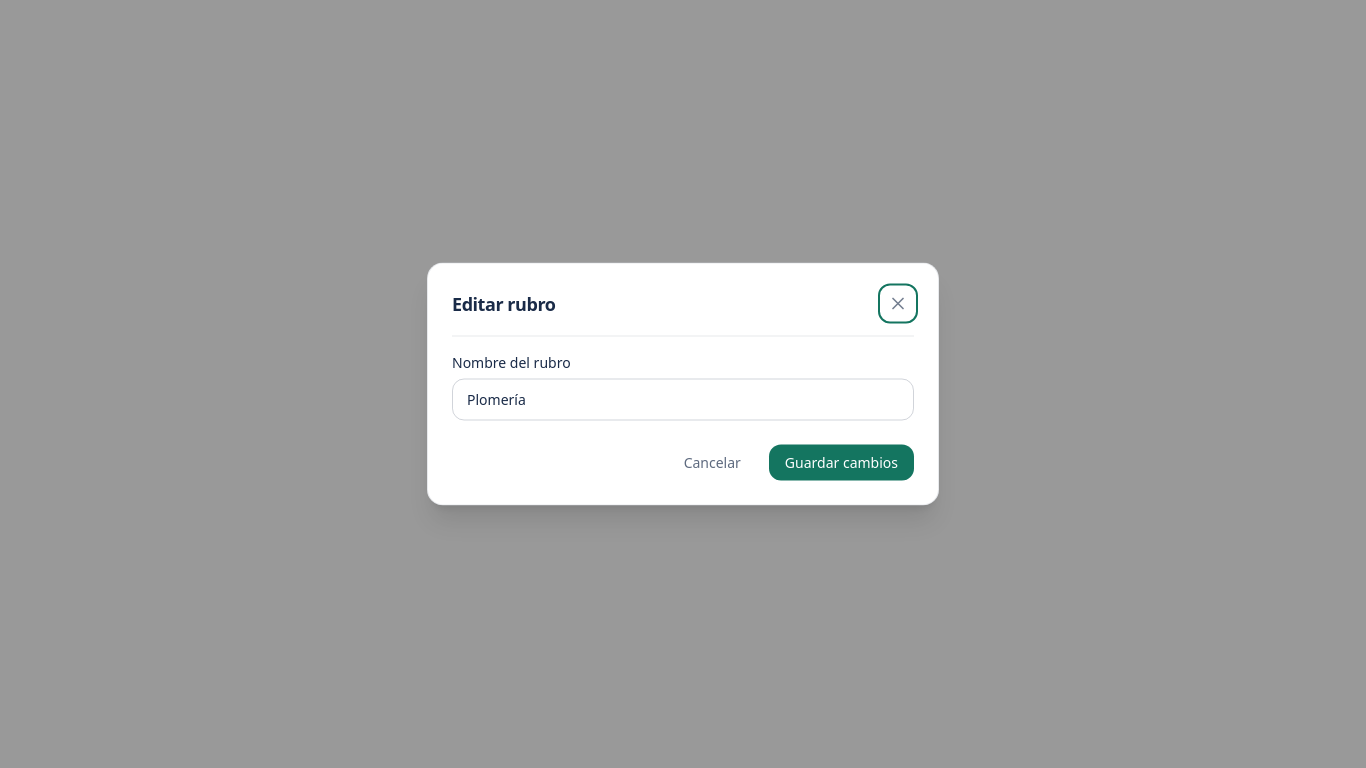
EditCategoryModal › validates that name is required and shows error without submitting
Clear the field labelled "Nombre del rubro" at (683, 400), box [452,378,914,420]
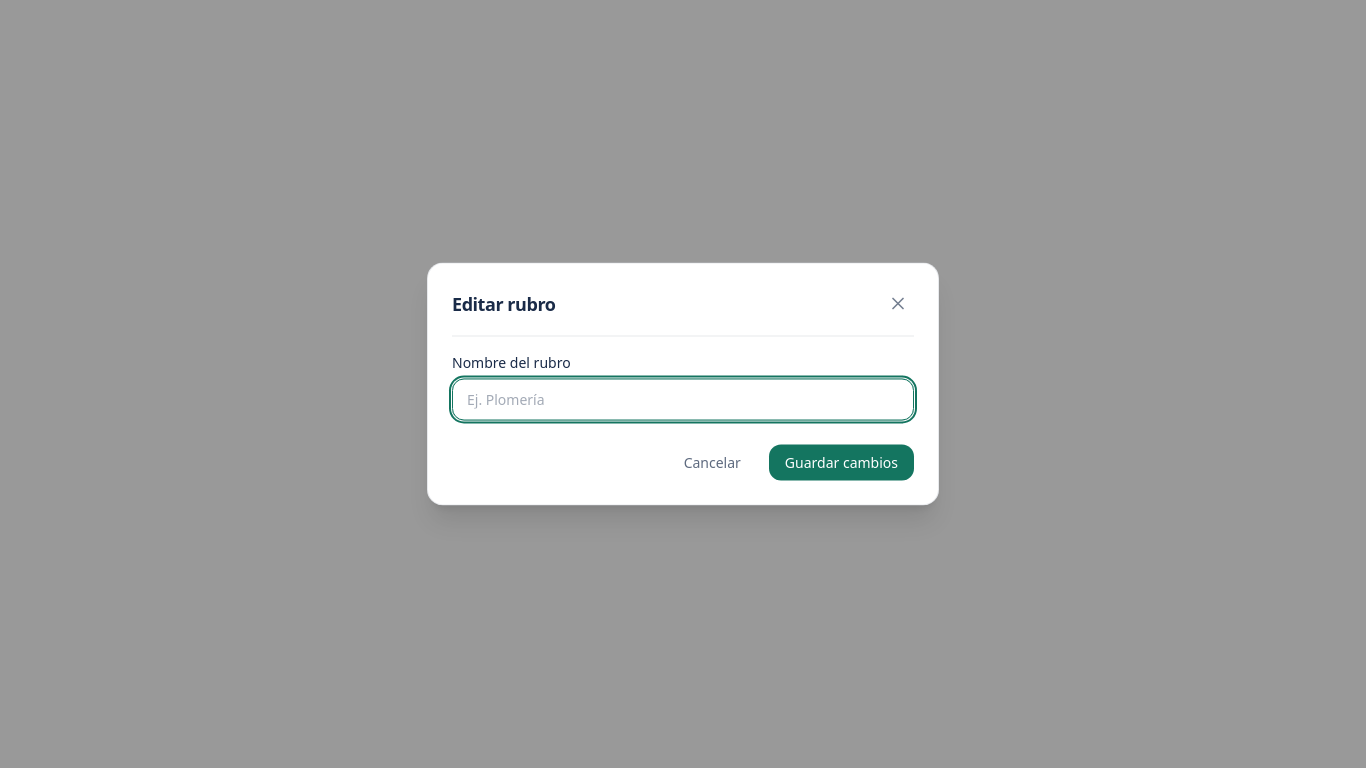
Click the button "Guardar cambios".
click(841, 462)  # box [769,444,914,480]
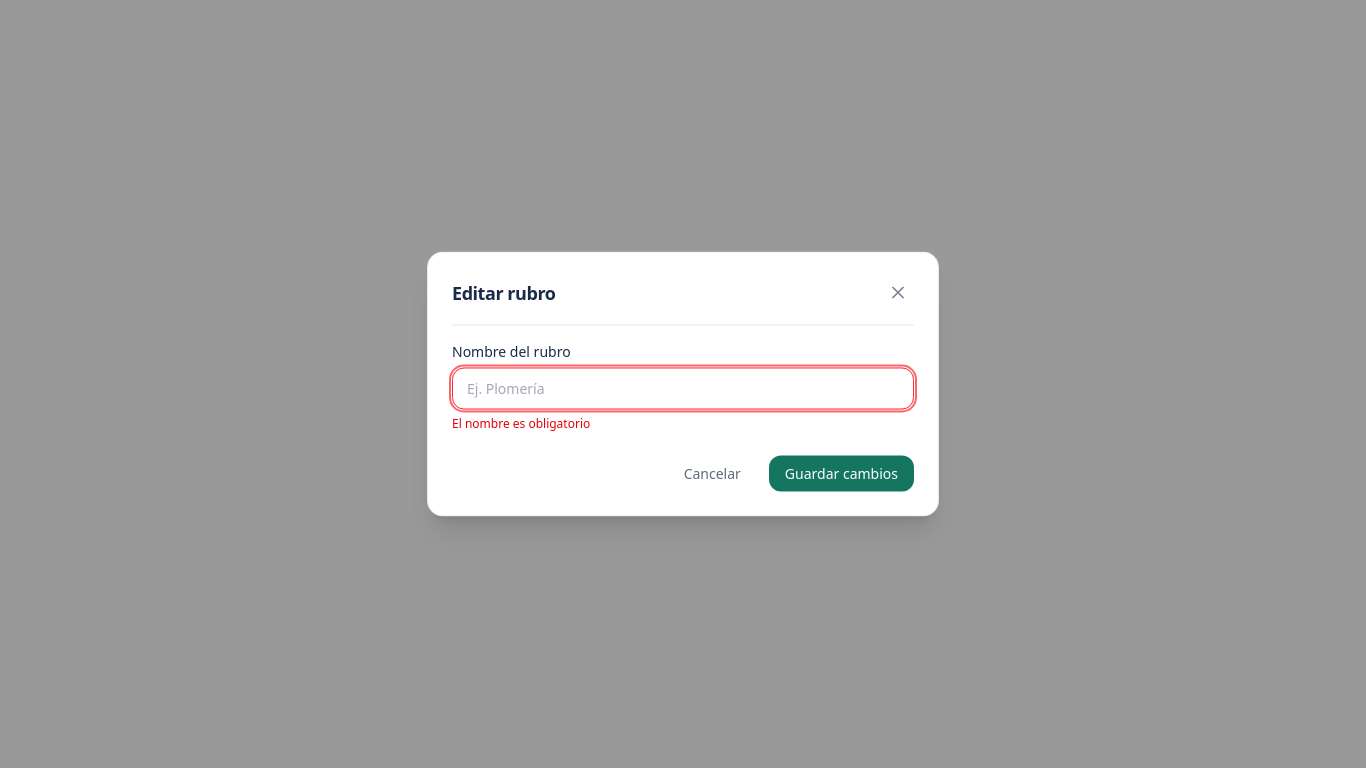
Check: the message reads "El nombre es obligatorio", box [452,414,590,432]
